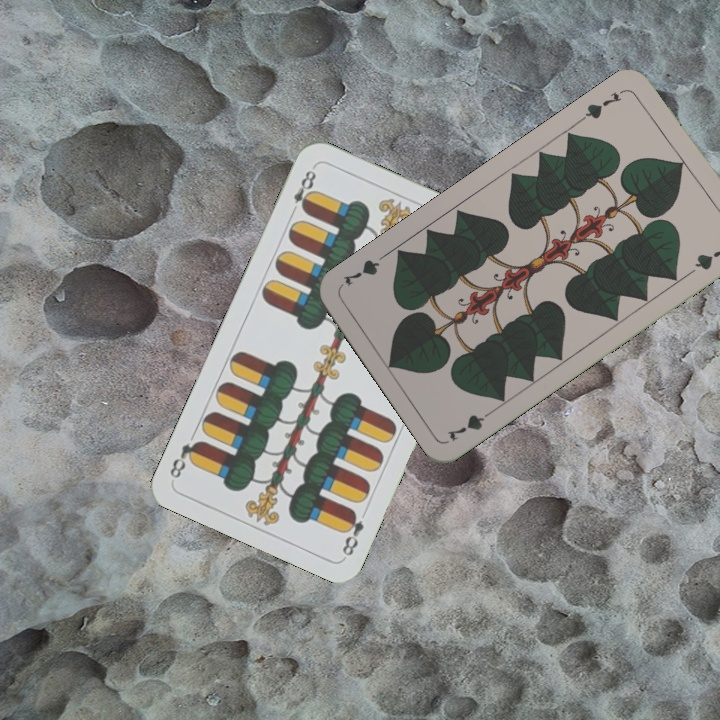E8: (286, 163, 319, 219), (338, 506, 367, 559)
G7: (444, 404, 497, 444), (577, 85, 629, 124)
